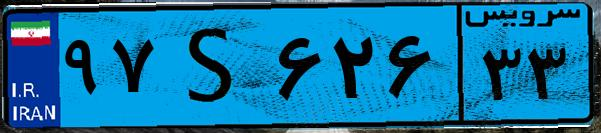2: (330, 28, 385, 110)
3: (475, 38, 525, 113), (525, 38, 570, 115)
6: (270, 28, 330, 110), (385, 28, 445, 110)
7: (110, 28, 158, 98)
9: (57, 26, 110, 100)
S: (158, 12, 270, 120)
